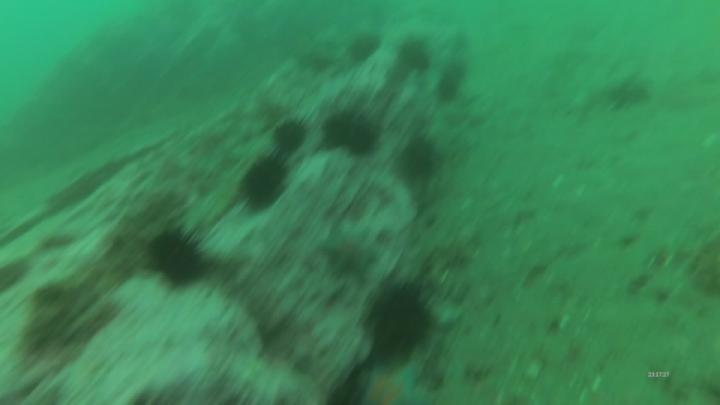echinus: (358, 274, 440, 357), (142, 225, 212, 286), (235, 150, 296, 208), (400, 130, 441, 185), (347, 115, 387, 167), (271, 115, 312, 154), (403, 34, 434, 74), (348, 30, 381, 66), (321, 113, 351, 150), (436, 74, 461, 108)
starfish: (352, 351, 424, 403)
